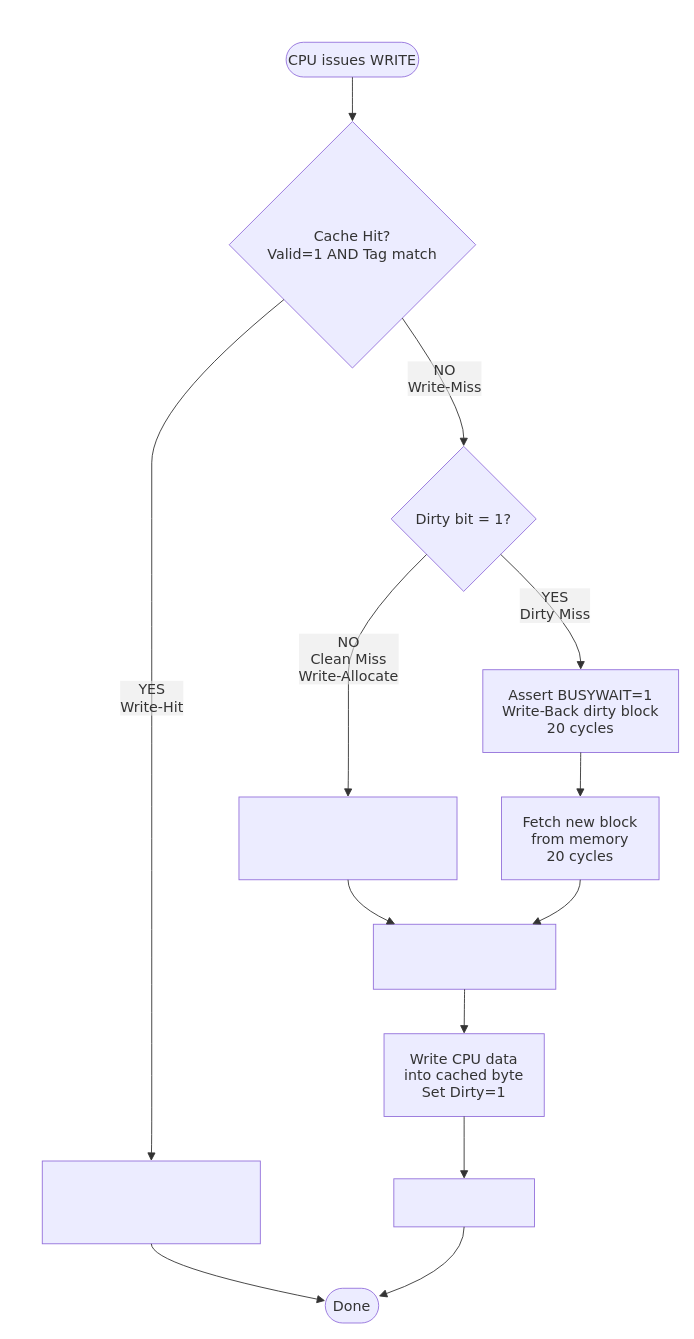
Some shapes in this 694 by 1339 pixel diagram are drawn without their labels. Here are the shapes that lost their labels. From the top down, the centre of each, then its label:
At (347,838): "Assert BUSYWAIT=1 Fetch block from memory 20 cycles".
At (464,956): "Store block in cache Valid=1 Tag updated".
At (150,1202): "Update byte in cache line Set Dirty=1 BUSYWAIT = 0".
At (463,1202): "BUSYWAIT = 0".
